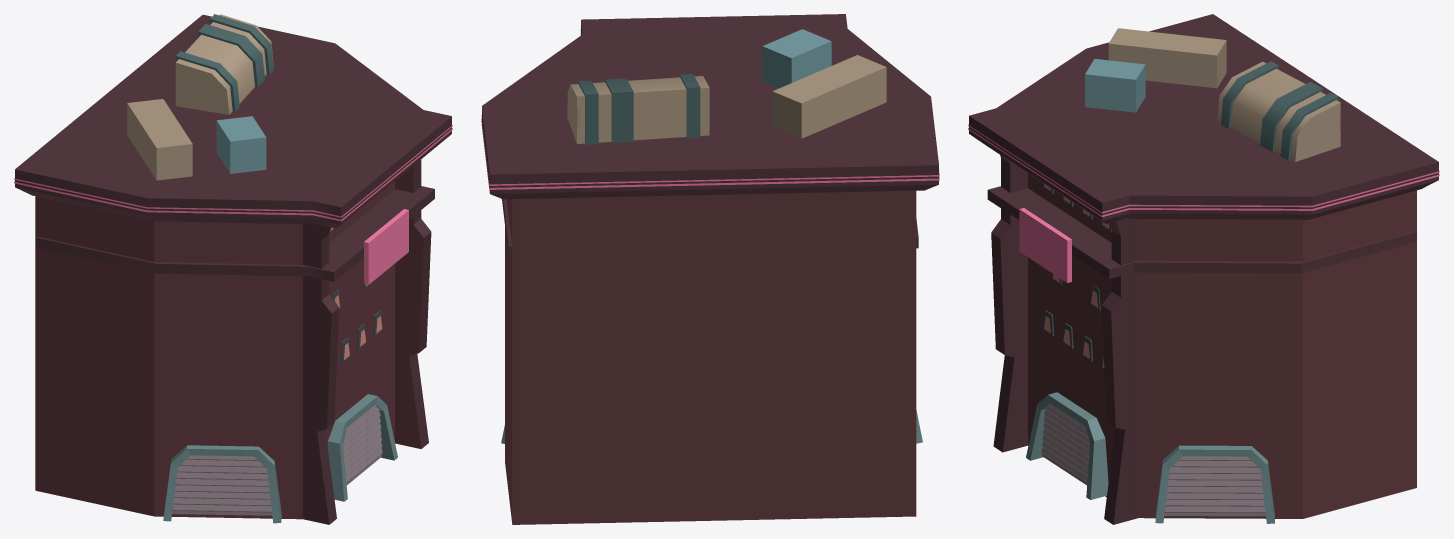
Rendered from NorthEast_House_03.fbx.
The picture shows the model from 3 angles, left to right: view 1: azimuth 30°, elevation 25°; view 2: azimuth 150°, elevation 25°; view 3: azimuth 270°, elevation 25°; orthographic projection. The views are drawn at different scales.
Parts seen in each view (by area): view 1: NorthEast_House_03; view 2: NorthEast_House_03; view 3: NorthEast_House_03.
Boxes of the visible parts, x1=… form: NorthEast_House_03: x1=14, y1=14, x2=452, y2=524; NorthEast_House_03: x1=481, y1=14, x2=939, y2=524; NorthEast_House_03: x1=968, y1=14, x2=1439, y2=524.
Size of the model in its own units: 33.66 by 31.25 by 35.38.
Materials: 2 (2 with a texture image).
